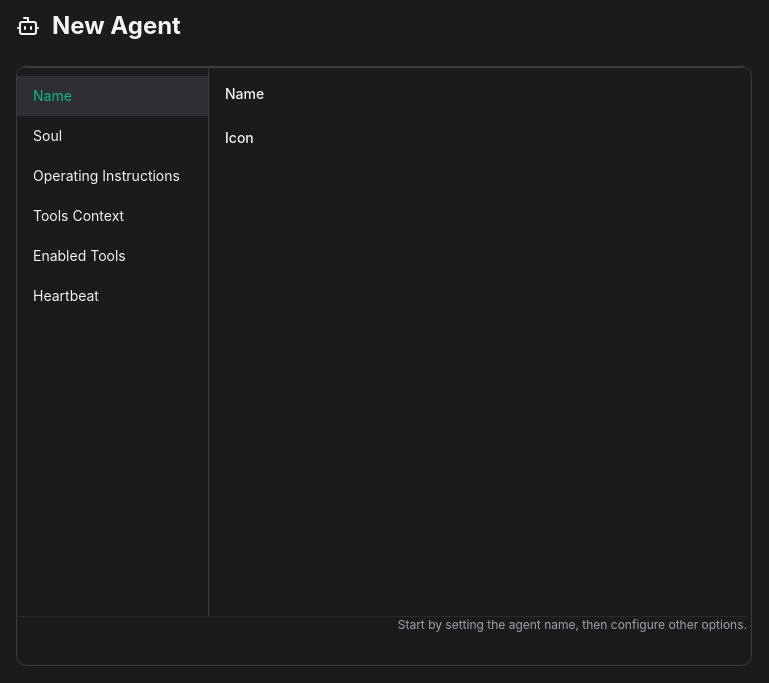
Test: New Agent Page › Heartbeat Configuration › shows heartbeat toggle when Heartbeat is selected
// Click on Heartbeat in sidebar
Click the button "Heartbeat".
click(112, 296)  # box [17,276,208,316]
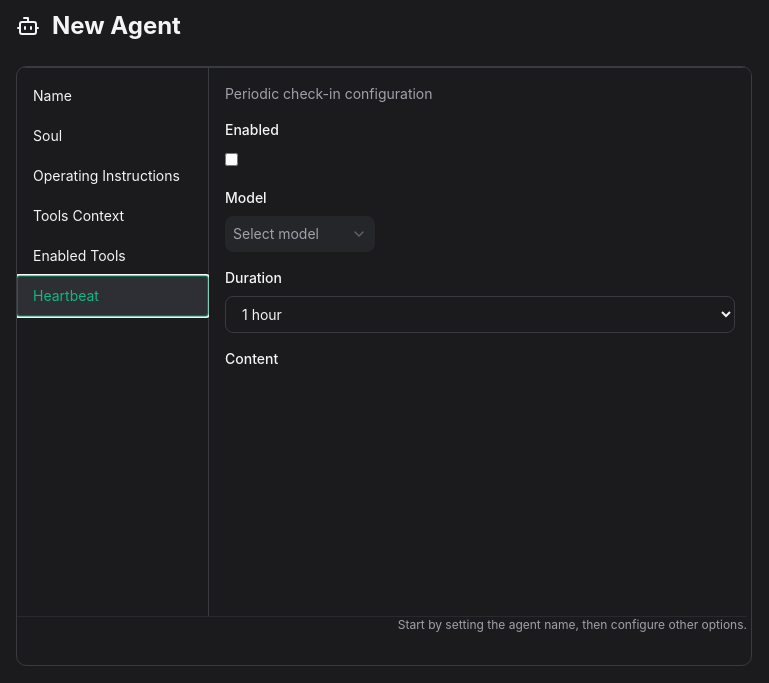
Check: the checkbox labelled "Enabled" is shown, box [225,153,238,166]
